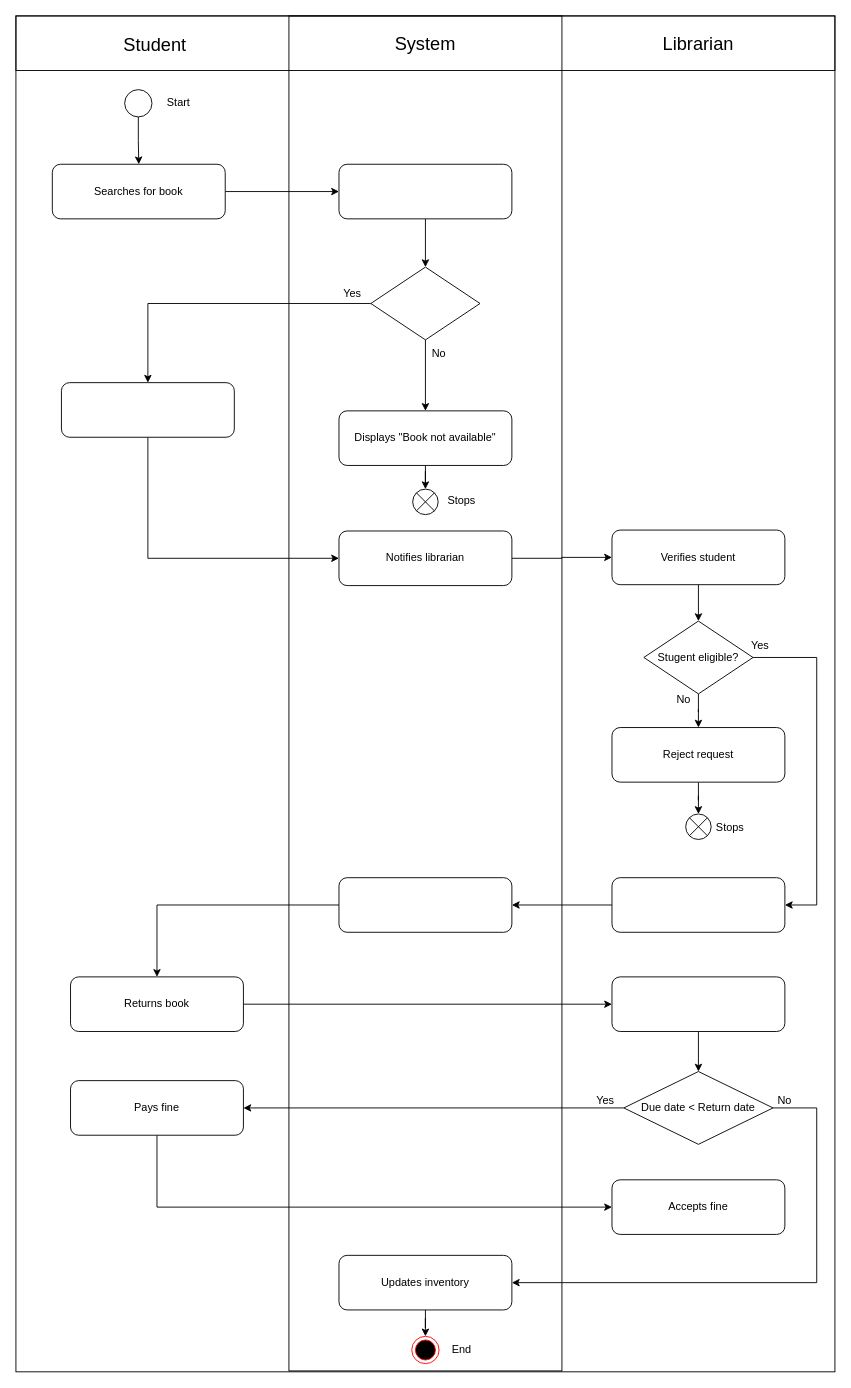
Some shapes in this 851 by 1388 pixel diagram are drawn without their labels. The centre of each missing label's shape, as x and y in pixels:
book available?: (425,303)
Checks availabillity: (425,191)
Checks due date: (698,1003)
Issue book: (698,904)
Request issuance: (147,409)
Updare inventory: (425,904)
